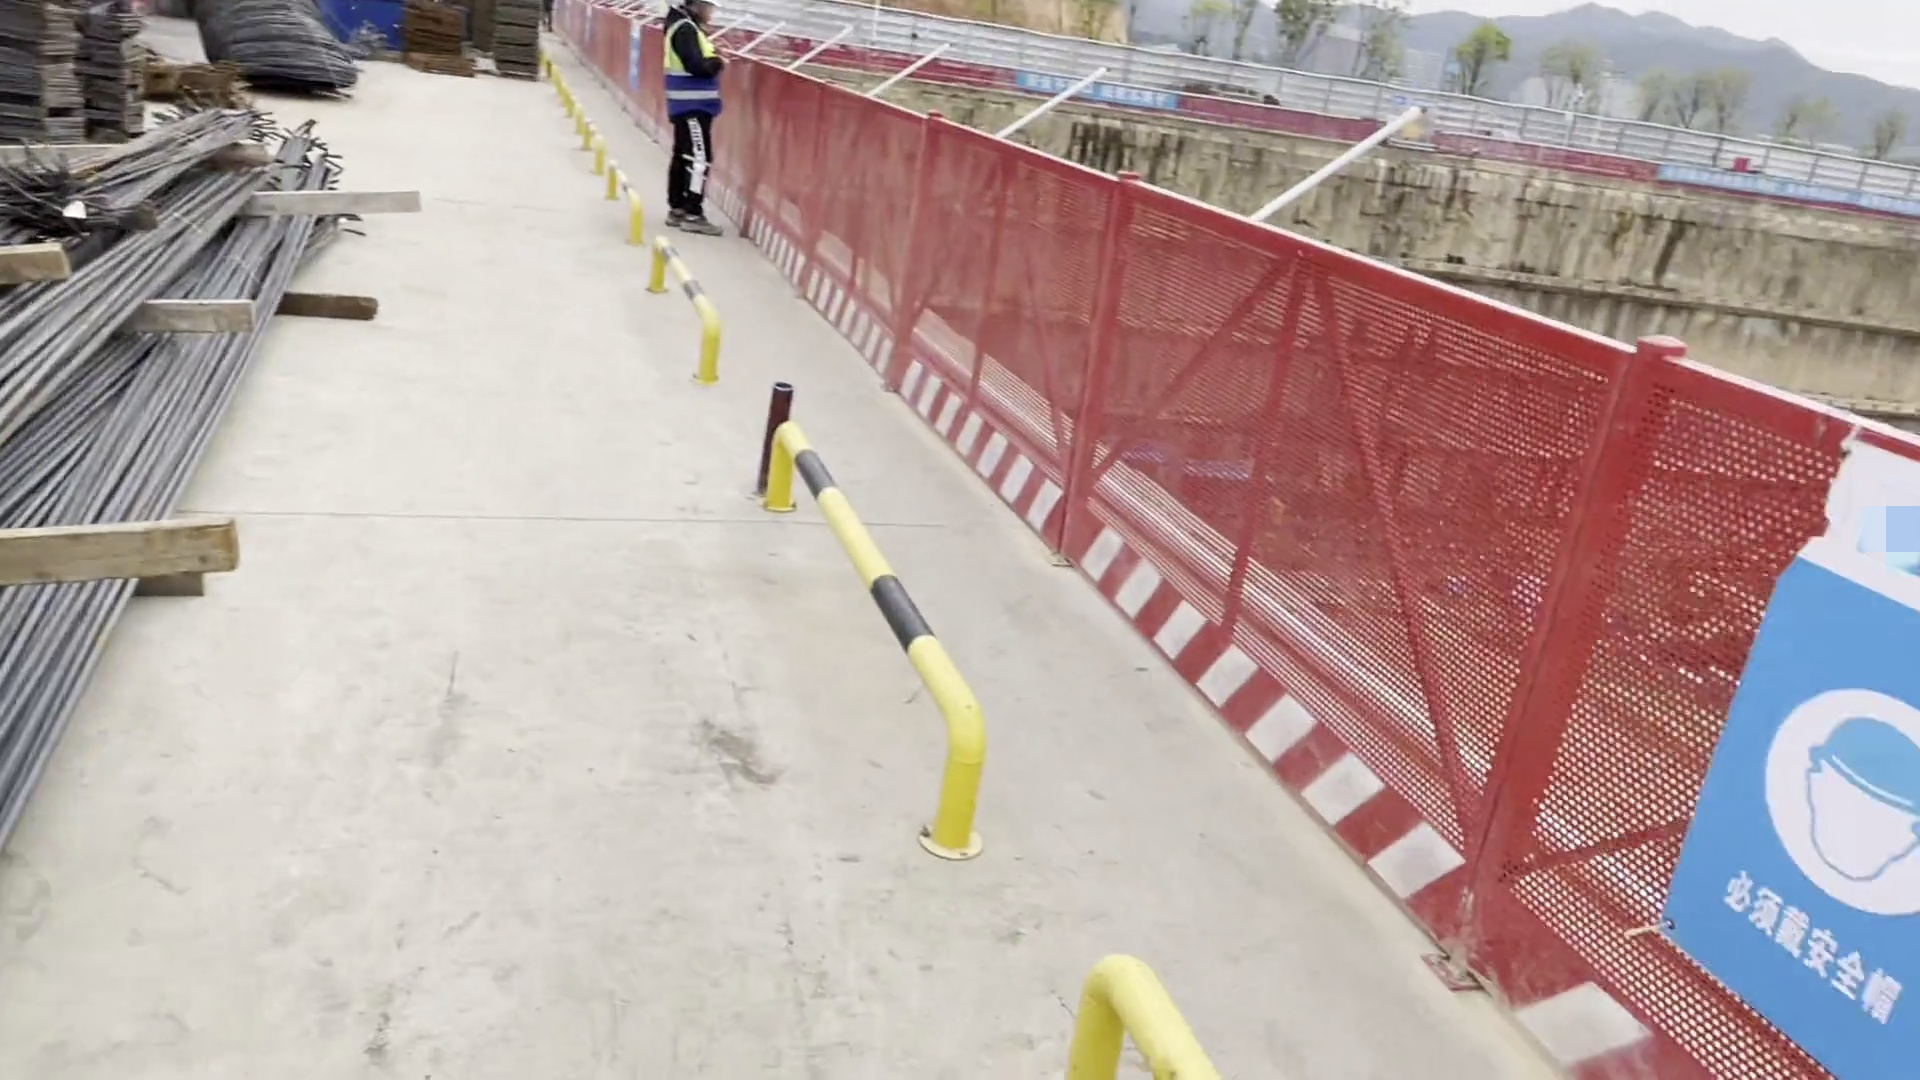fence: (1117, 180, 1759, 1080), (734, 59, 1112, 606)
person: (659, 4, 729, 237)
rebar: (2, 110, 327, 845)
slogan: (1667, 426, 1918, 1075), (1658, 159, 1919, 217), (1003, 67, 1176, 114)
vest: (667, 17, 717, 119)
